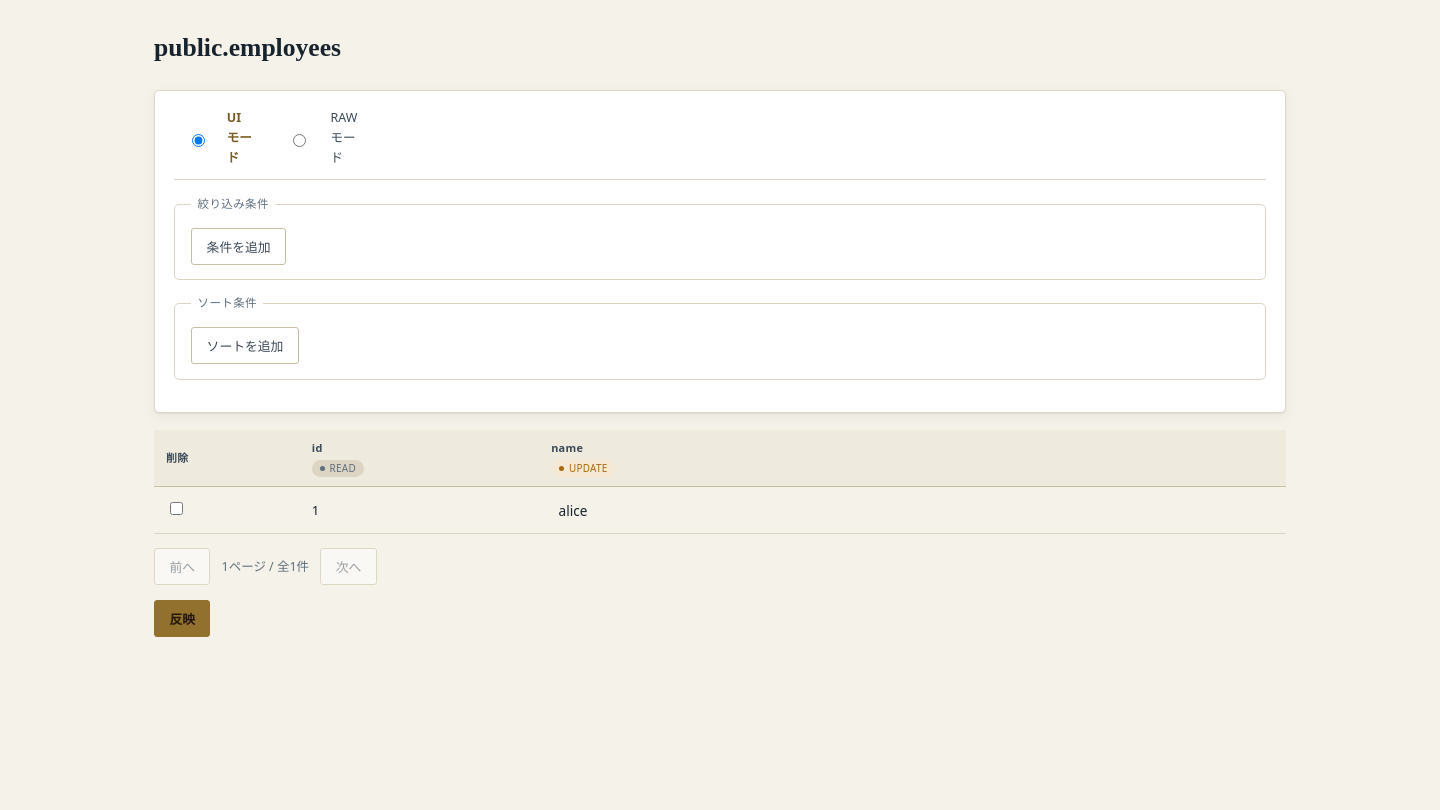
Test: RecordListPage › toggles a row for deletion and applies deletes via applyChanges
The width and height of the screenshot is (1440, 810).
Click the checkbox with test id "record-list-page-delete-checkbox": (176, 509) [170, 502, 183, 515]
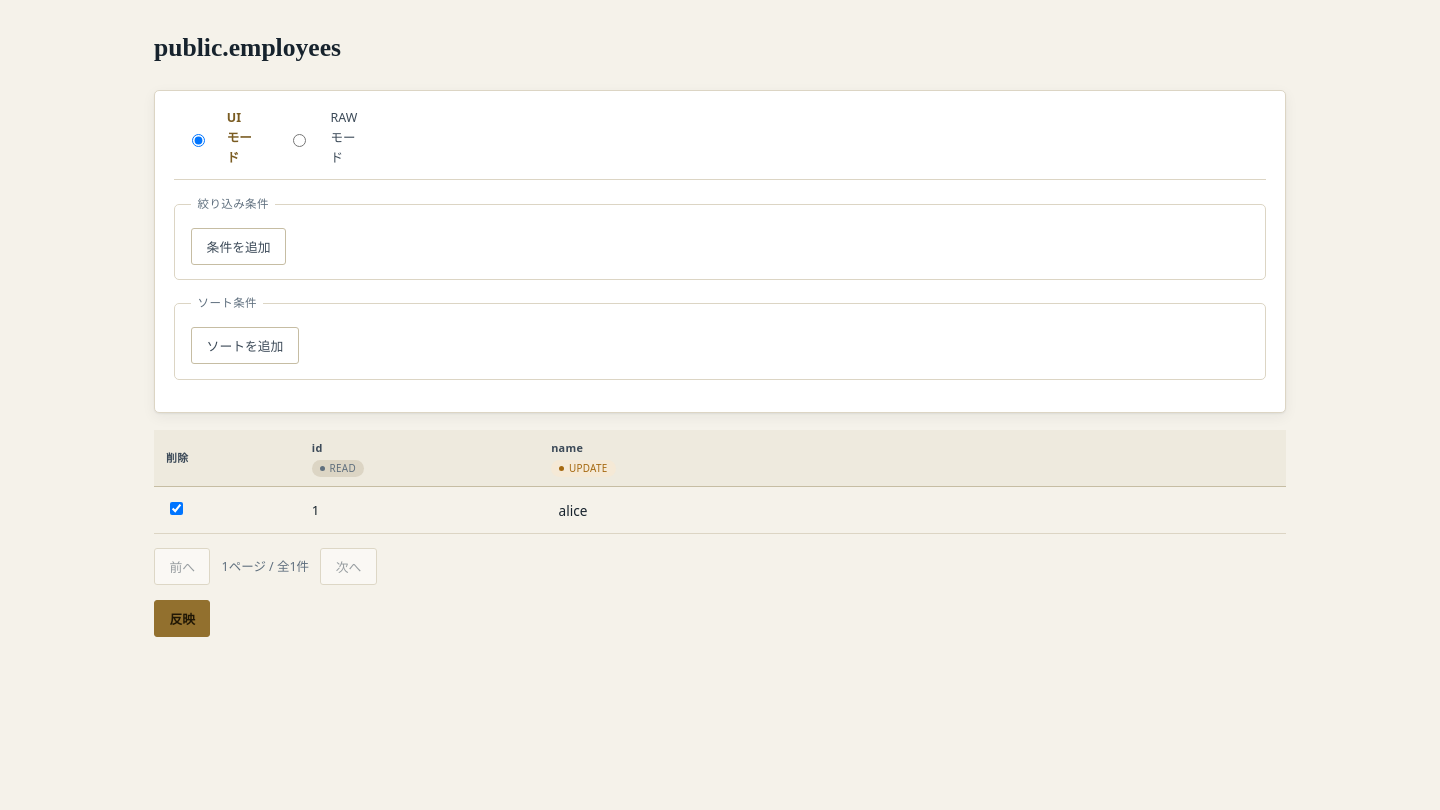
Click the button with test id "record-list-page-apply": (182, 618) [154, 600, 210, 637]
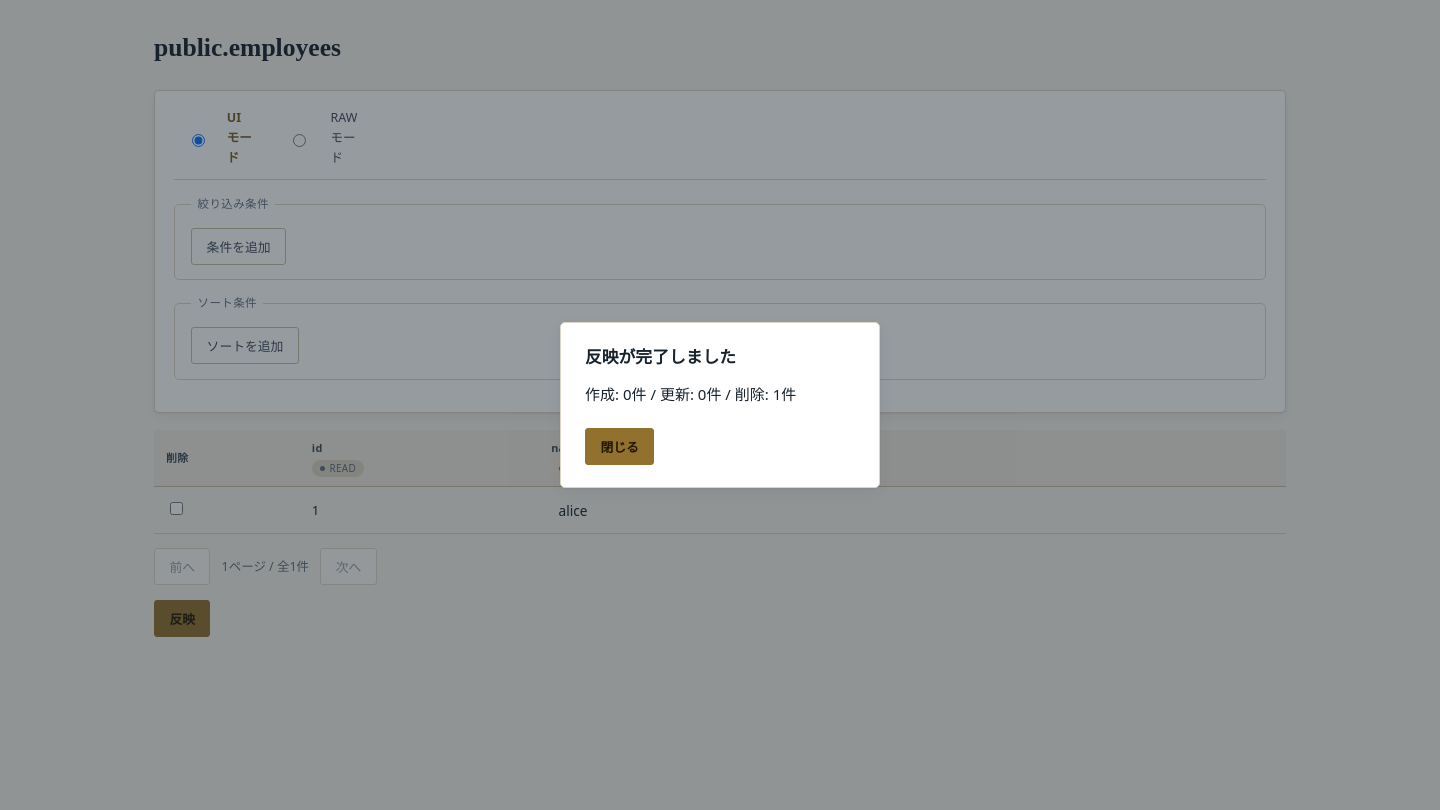
Result: the heading "反映が完了しました" is shown at [585, 348, 736, 368]
